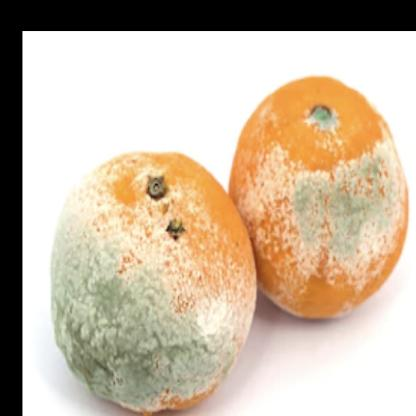rotten: (50, 74, 409, 416)
